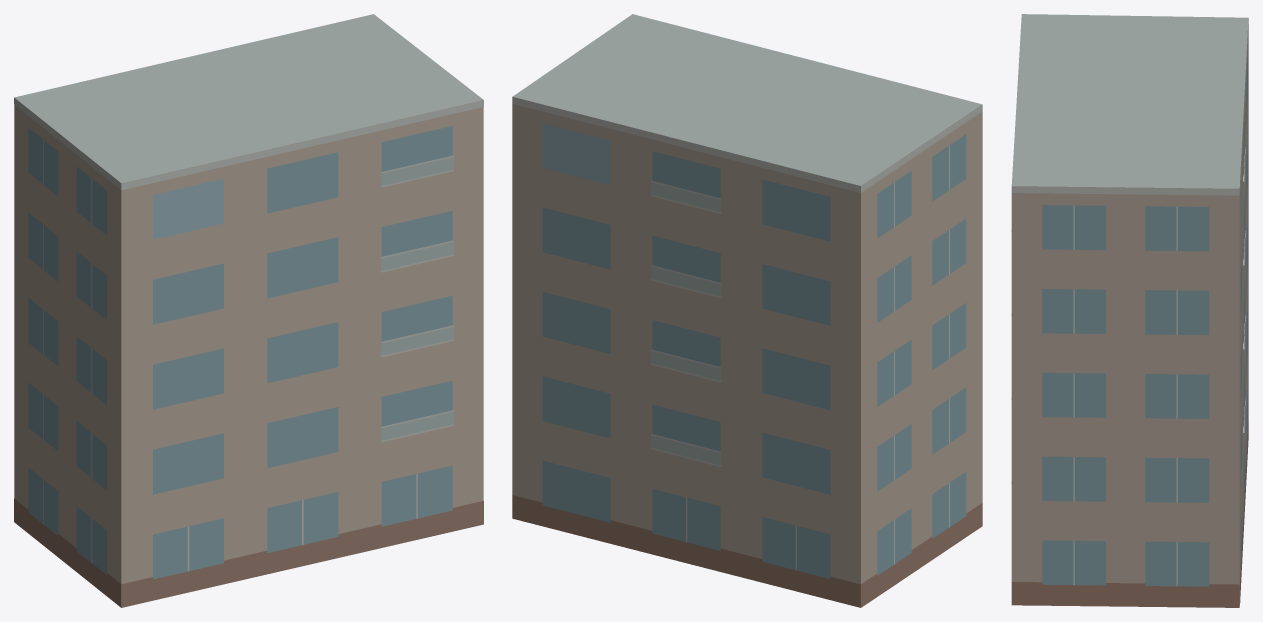
File: survey-upis-32566066.glb
3 renders of one model, left to right at view 1: azimuth 30°, elevation 25°; view 2: azimuth 150°, elevation 25°; view 3: azimuth 270°, elevation 25°, orthographic.
Visible parts, largest first — view 1: survey-upis-32566066.tmp; view 2: survey-upis-32566066.tmp; view 3: survey-upis-32566066.tmp.
Boxes of the visible parts, x1,y1,x2,y2 form: survey-upis-32566066.tmp: (14,14,483,607); survey-upis-32566066.tmp: (512,14,982,607); survey-upis-32566066.tmp: (1011,14,1248,607).
Bounding box in the file's own units: 13.29 × 14.85 × 7.62.
